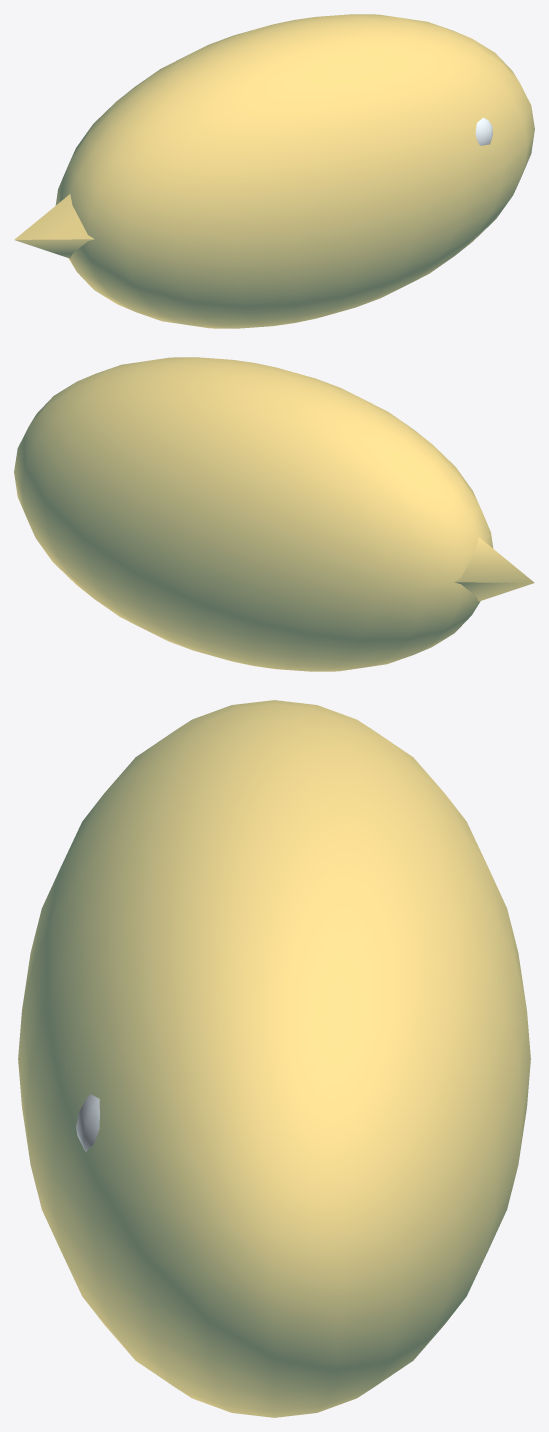
File: player-fish.glb
3 renders of one model, top to bottom at view 1: azimuth 30°, elevation 25°; view 2: azimuth 150°, elevation 25°; view 3: azimuth 270°, elevation 25°, orthographic. The views are drawn at different scales.
Parts seen in each view (by area): view 1: body, tail, eye; view 2: body, tail; view 3: body, eye.
Part boxes in pixels (left/top/right/bottom): body: left=55, top=14, right=534, bottom=328; tail: left=14, top=194, right=94, bottom=258; eye: left=475, top=117, right=492, bottom=145; body: left=14, top=357, right=493, bottom=671; tail: left=454, top=537, right=534, bottom=601; body: left=18, top=700, right=530, bottom=1417; eye: left=76, top=1094, right=99, bottom=1152.
Bounding box in the file's own units: 2.44 × 1.27 × 1.06.
